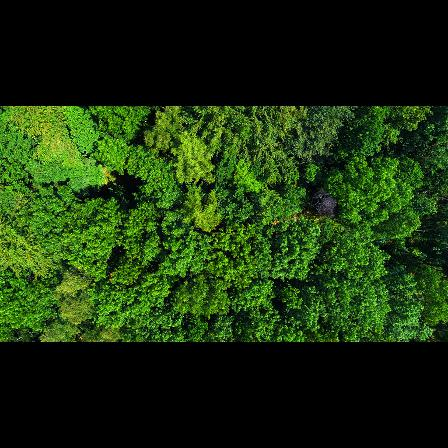Dead: (304, 185, 340, 217)
